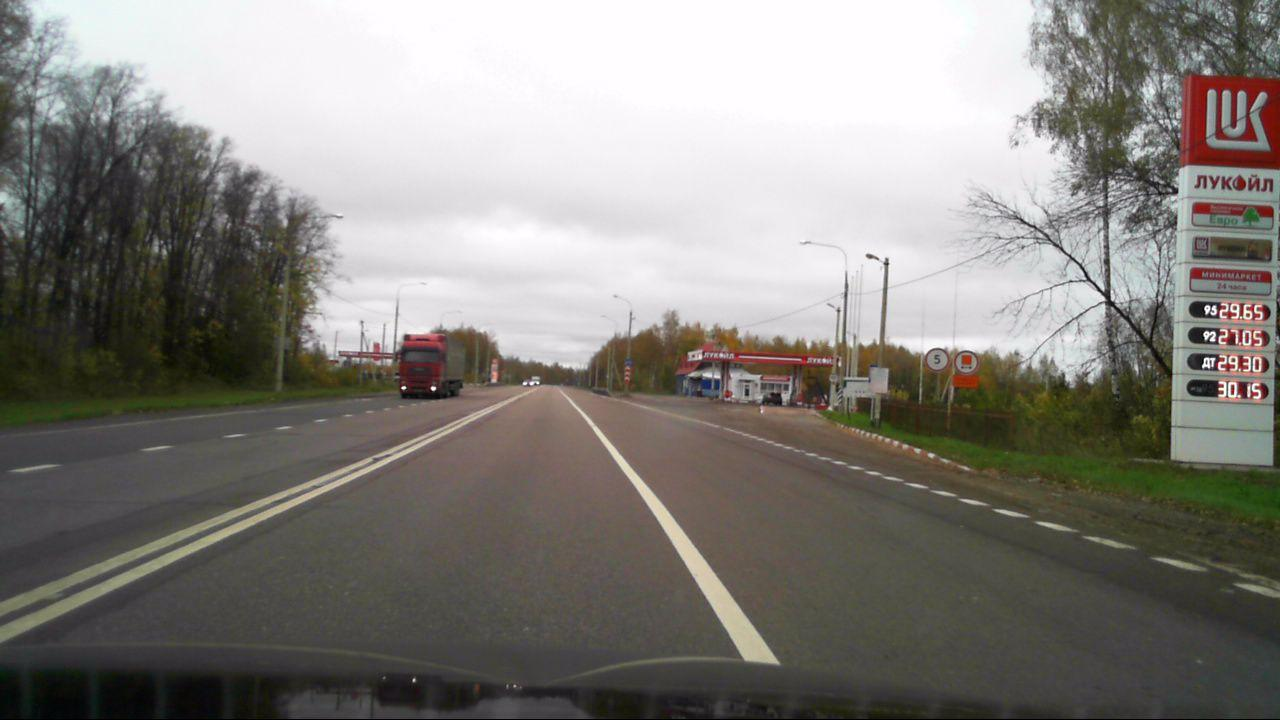3_24: (925, 347, 950, 372)
3_32: (952, 349, 979, 374)
4_2_3: (623, 359, 632, 366)
8_22_3: (623, 367, 631, 383)
